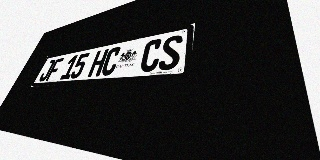1: (60, 55, 80, 80)
5: (69, 53, 90, 79)
C: (138, 38, 163, 73), (99, 46, 122, 76)
F: (45, 58, 64, 81)
H: (87, 49, 109, 77)
J: (38, 59, 56, 82)
S: (157, 34, 183, 71)
